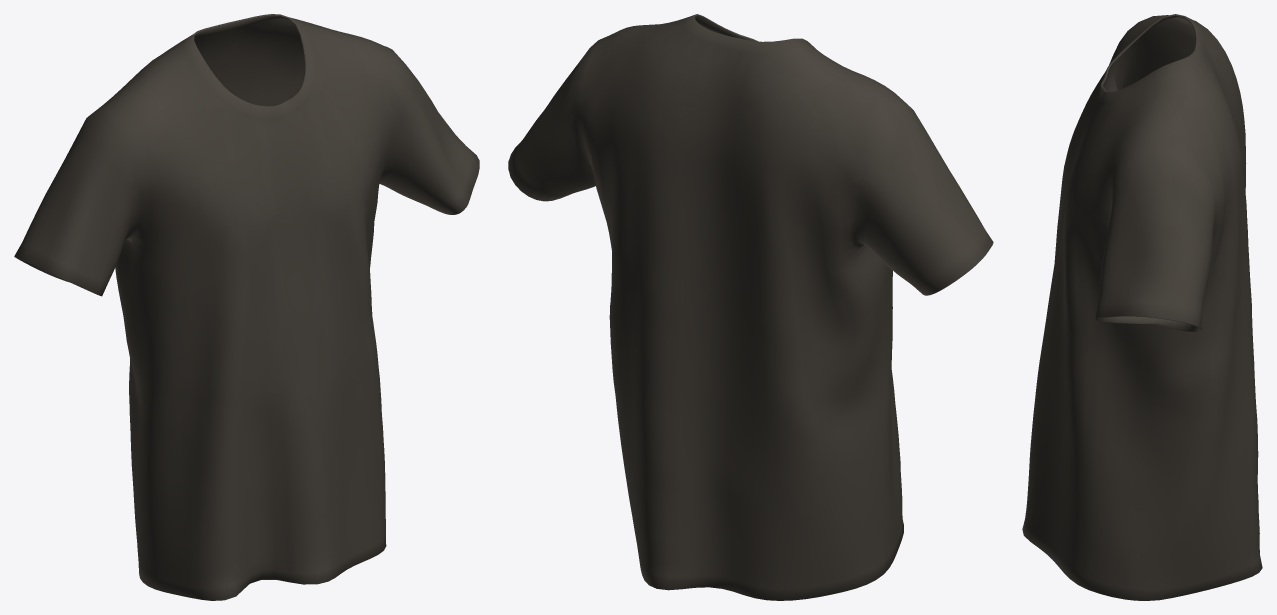
The model's file is tee-basic.draco.glb.
The picture shows the model from 3 angles, left to right: view 1: azimuth 30°, elevation 25°; view 2: azimuth 150°, elevation 25°; view 3: azimuth 270°, elevation 25°; orthographic projection. The views are drawn at different scales.
Visible parts, largest first — view 1: Object_2; view 2: Object_2; view 3: Object_2.
Part boxes in pixels (x1,y1,x2,y2): Object_2: (14, 14, 479, 600); Object_2: (508, 14, 993, 600); Object_2: (1022, 14, 1262, 600).
Bounding box in the file's own units: 0.7147 × 0.7914 × 0.3352.
1 material, 1 textured.
